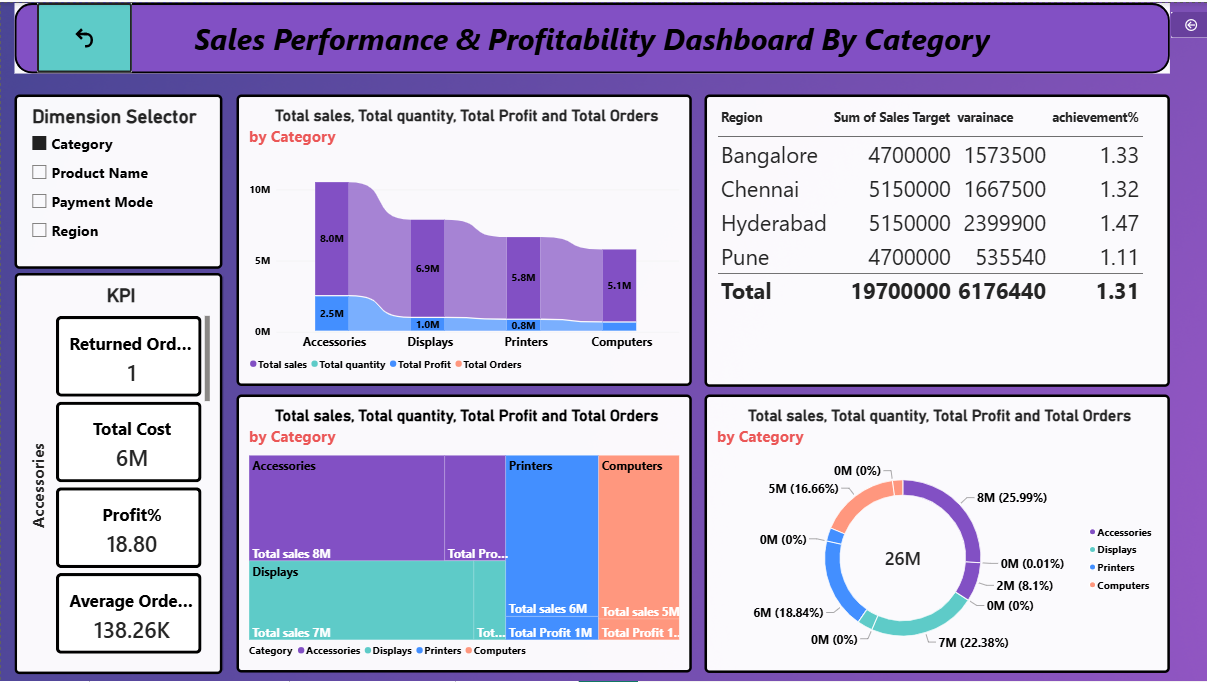

Layout of this report page (visuals, bound fields, positions):
{"tool":"powerbi","page":{"name":"Detailed Analysis","canvas":[1920,1080],"ordinal":1},"visuals":[{"type":"ribbonChart","fields":{"Category":["Employess.Employee Name","Customers.Customer Type","Customers.State","Products.Brand"],"Y":["Measure Table.Total sales","Measure Table.Total quantity","Measure Table.Total Profit","Measure Table.Total Orders"]},"box":[396.1,145.5,722.9,462.9],"z":0},{"type":"tableEx","fields":{"Values":["Region table.Region","Sum(Targets.Sales Target)","Targets.varainace","Targets.achievement%"]},"box":[1136.7,145.7,711.7,463.9],"z":1000},{"type":"treemap","fields":{"Group":["Employess.Employee Name","Customers.Customer Type","Customers.State","Products.Brand"],"Values":["Measure Table.Total sales","Measure Table.Total quantity","Measure Table.Total Profit","Measure Table.Total Orders"]},"box":[395.9,619.4,722.9,441.4],"z":2000},{"type":"donutChart","fields":{"Category":["Employess.Employee Name","Customers.Customer Type","Customers.State","Products.Brand"],"Y":["Measure Table.Total sales","Measure Table.Total quantity","Measure Table.Total Profit","Measure Table.Total Orders"]},"box":[1136.7,619.4,711.7,442],"z":3000},{"type":"shape","box":[26.7,17,1821.6,109.3],"z":4000},{"type":"cardVisual","title":"KPI","fields":{"Data":["Measure Table.Returned Orders","Measure Table.Total Cost","Measure Table.Profit%","Measure Table.Average Order value"]},"box":[26.7,425,327.9,636.4],"z":5000},{"type":"slicer","fields":{"Values":["Parameter3.Parameter3"]},"box":[26,144.9,329,258],"z":7000},{"type":"actionButton","box":[1624.9,17,145.7,106.9],"z":14000},{"type":"actionButton","box":[1856.8,13.6,63.6,40.9],"z":16000}]}

Visuals, with their boxes in screenshot pixels (x1, y1, x2, y2), scaled from the page's 1920x1080 canvas onto the 1207x682 screenshot:
ribbonChart - Employess.Employee Name x Customers.Customer Type: bbox=(249, 92, 703, 384)
tableEx - Region table.Region x Sum(Targets.Sales Target): bbox=(715, 92, 1162, 385)
treemap - Employess.Employee Name x Customers.Customer Type: bbox=(249, 391, 703, 670)
donutChart - Employess.Employee Name x Customers.Customer Type: bbox=(715, 391, 1162, 670)
shape: bbox=(17, 11, 1162, 80)
"KPI" cardVisual: bbox=(17, 268, 223, 670)
slicer - Parameter3.Parameter3: bbox=(16, 92, 223, 254)
actionButton: bbox=(1021, 11, 1113, 78)
actionButton: bbox=(1167, 9, 1206, 34)
